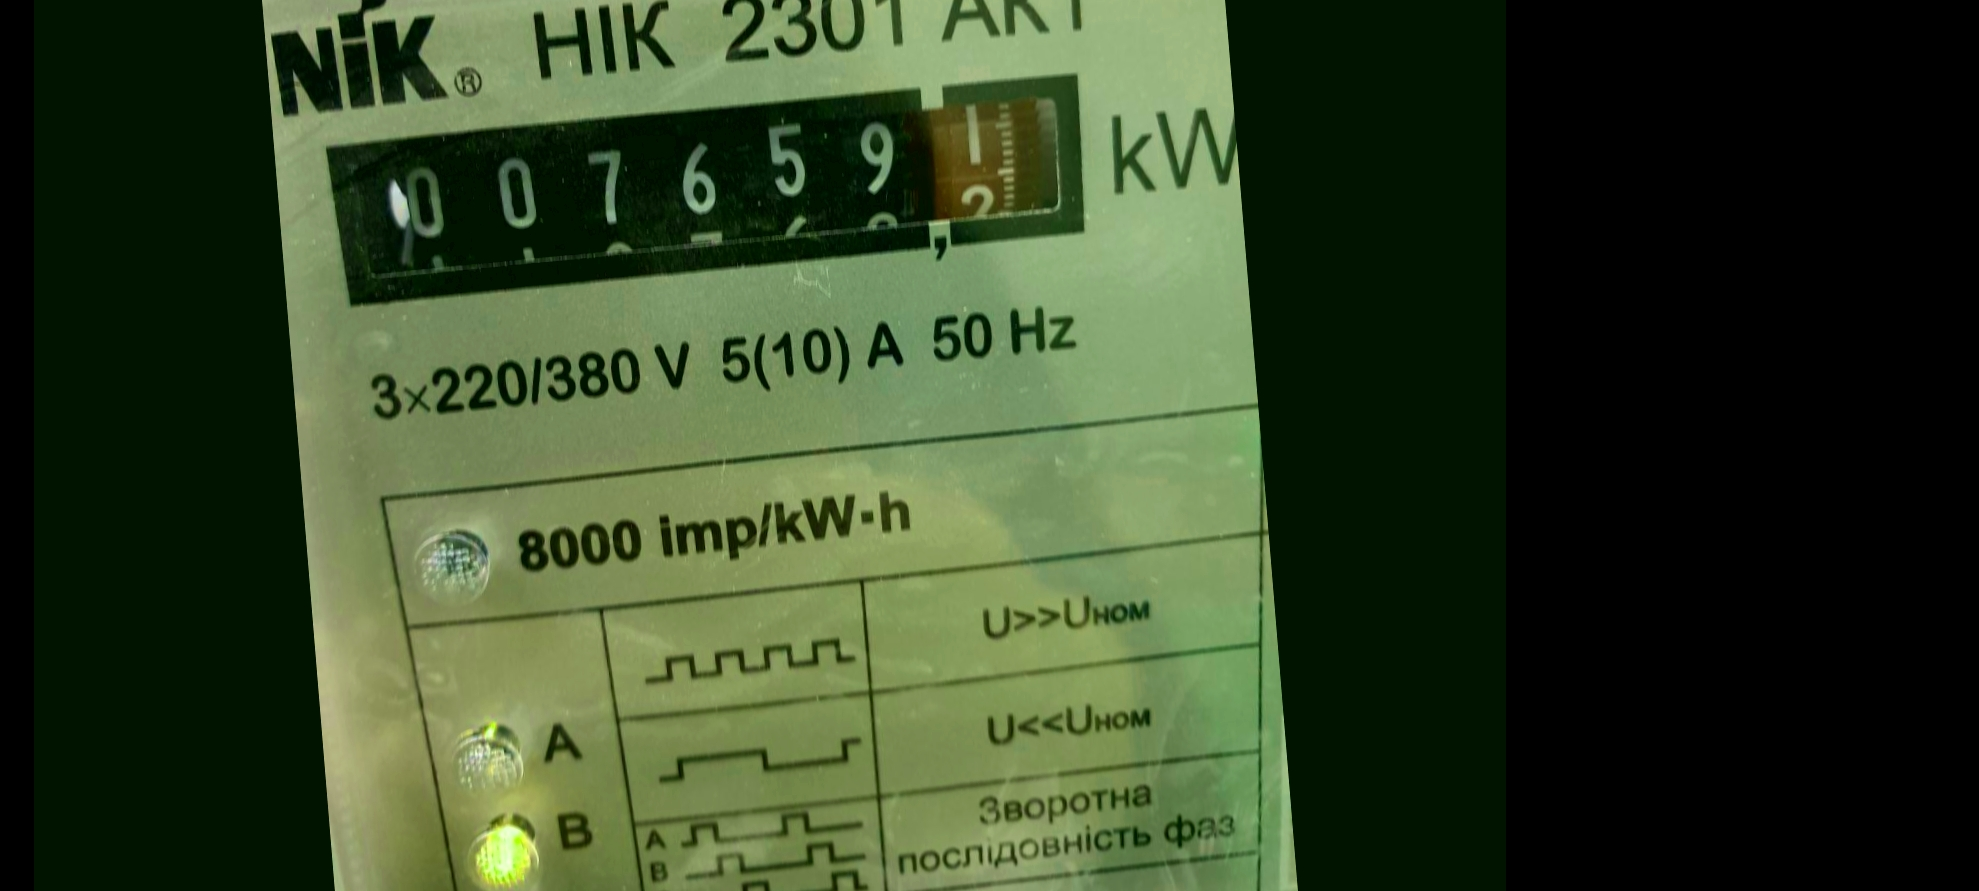0: (483, 146, 546, 236), (398, 155, 454, 249)
1: (955, 95, 996, 173)
5: (761, 116, 813, 202)
6: (669, 133, 726, 220)
7: (582, 143, 631, 230)
9: (854, 112, 902, 203)
screen: (305, 50, 1114, 328)
